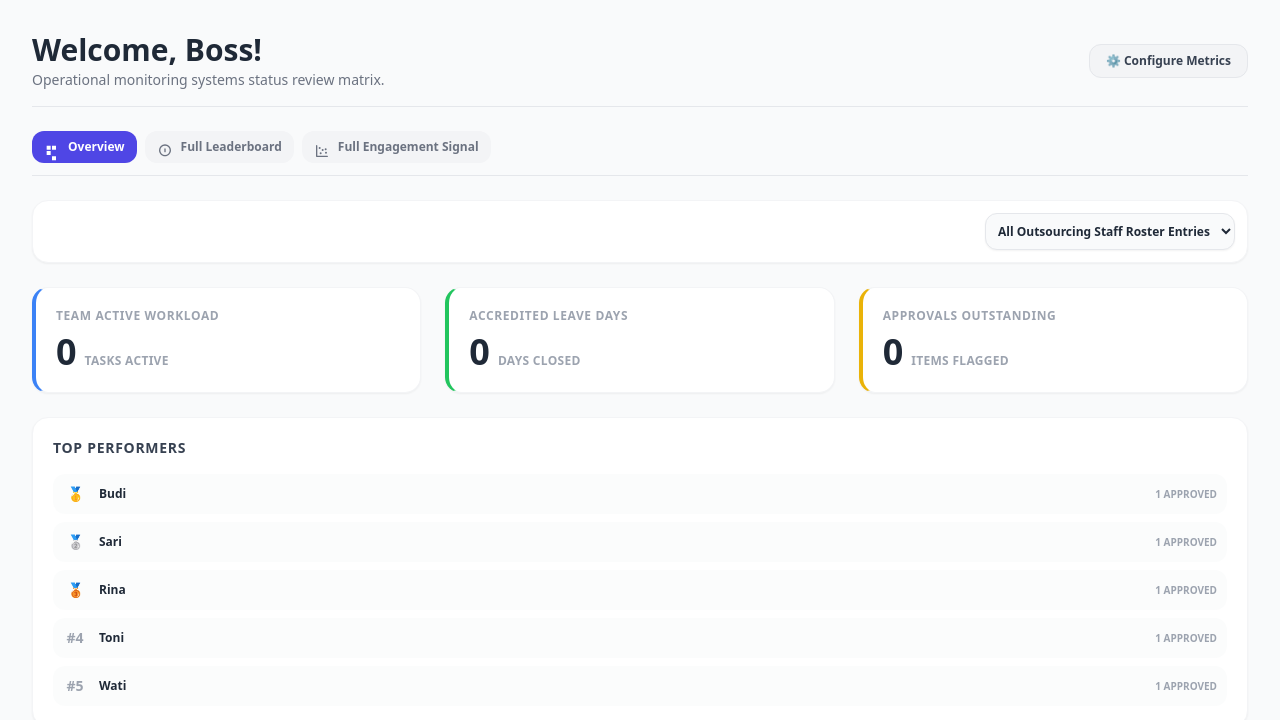
DashboardView › the Full Engagement Signal tab renders without crashing
Step 1. Click the tab "Full Engagement Signal" → (396, 147), box [302, 131, 491, 163]
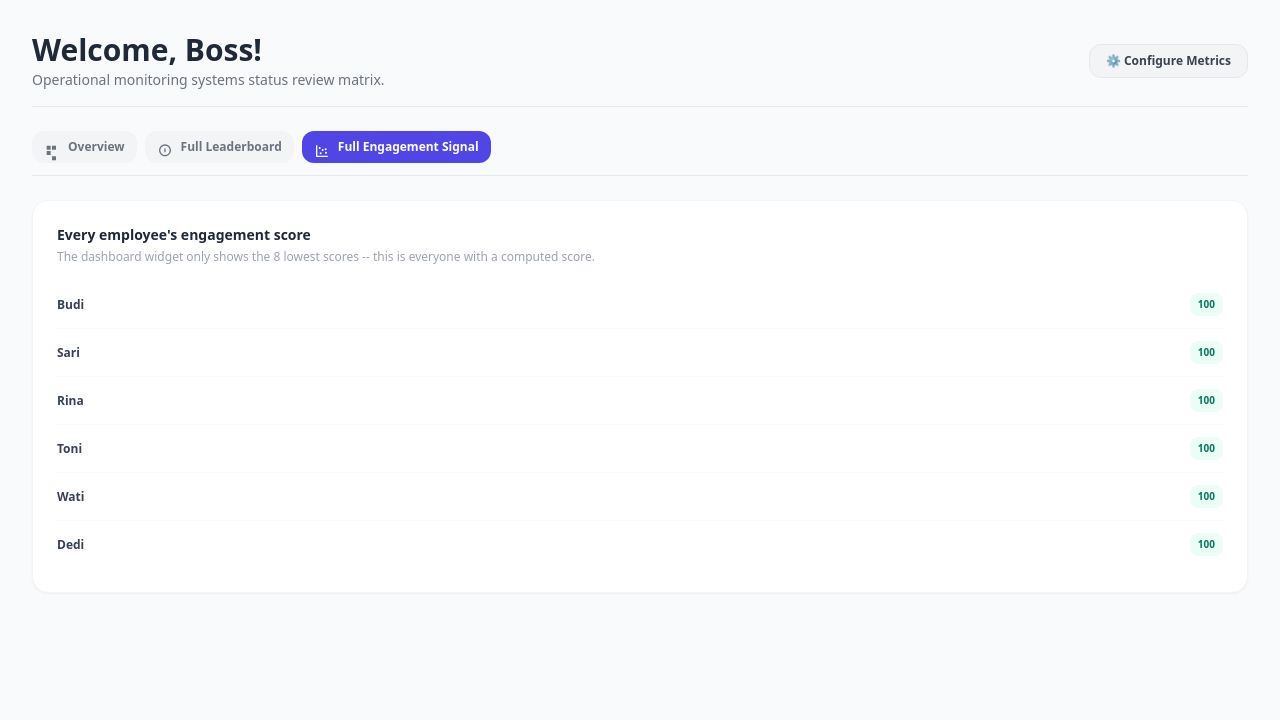
Expected: the heading "Every employee's engagement score" is shown, [57, 225, 311, 244]
